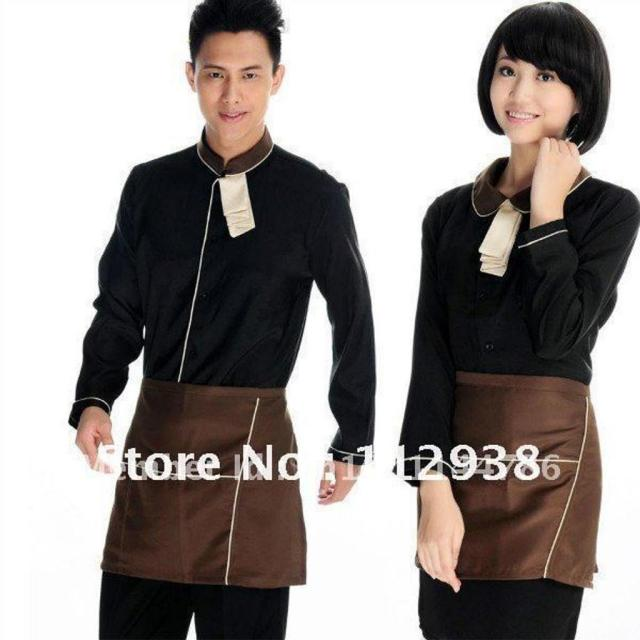nomask: (490, 14, 578, 141), (194, 26, 274, 142)
